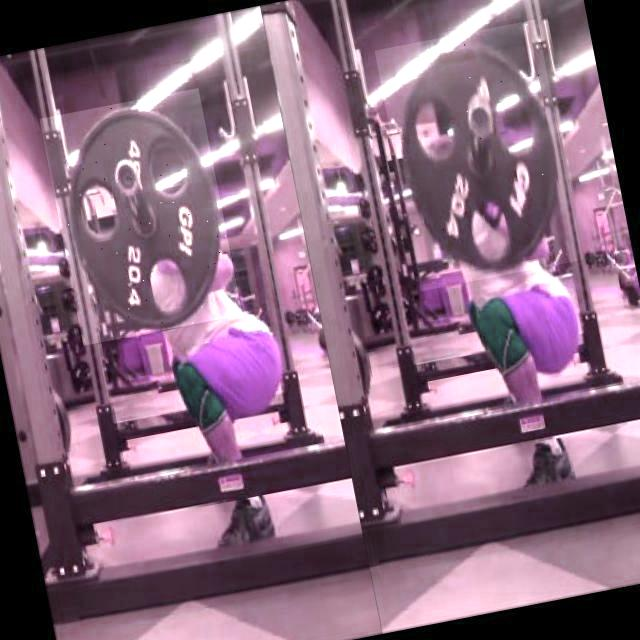barbell: (375, 20, 585, 292), (40, 88, 243, 347)
